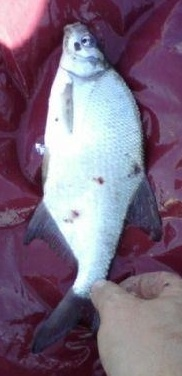Blicca bjoerkna: (20, 20, 162, 356)
